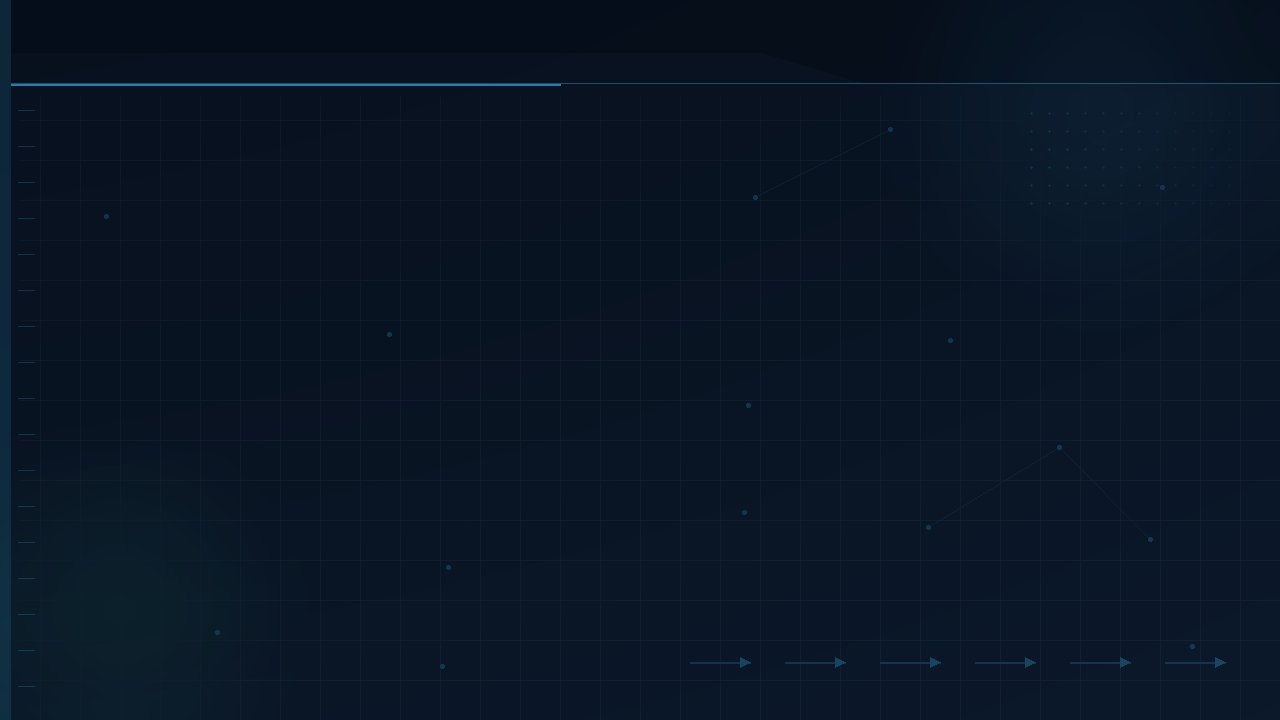

The page's visual inventory and layout, read from the dashboard file:
{"tool":"powerbi","page":{"name":"Architecture & Methodology","canvas":[1280,720],"ordinal":4},"visuals":[{"type":"textbox","box":[24.6,0,328.8,52.9],"z":10},{"type":"textbox","box":[24.6,30.2,514,73.7],"z":20},{"type":"textbox","box":[24.6,75.6,769.1,56.7],"z":30},{"type":"textbox","box":[24,132,385,210],"z":100},{"type":"textbox","box":[432,132,385,210],"z":110},{"type":"textbox","box":[840,132,410,210],"z":120},{"type":"textbox","box":[24,365,385,210],"z":130},{"type":"textbox","box":[432,365,385,210],"z":140},{"type":"textbox","box":[840,365,410,210],"z":150},{"type":"textbox","box":[24.6,650.1,436.5,52.9],"z":9000},{"type":"textbox","box":[999.7,684.1,249.5,35.9],"z":9010}]}

Visuals, with their boxes in screenshot pixels (x1, y1, x2, y2), scaled from the page's 1280x720 canvas onto the 1280x720 screenshot:
textbox: 25, 0, 353, 53
textbox: 25, 30, 539, 104
textbox: 25, 76, 794, 132
textbox: 24, 132, 409, 342
textbox: 432, 132, 817, 342
textbox: 840, 132, 1250, 342
textbox: 24, 365, 409, 575
textbox: 432, 365, 817, 575
textbox: 840, 365, 1250, 575
textbox: 25, 650, 461, 703
textbox: 1000, 684, 1249, 719
